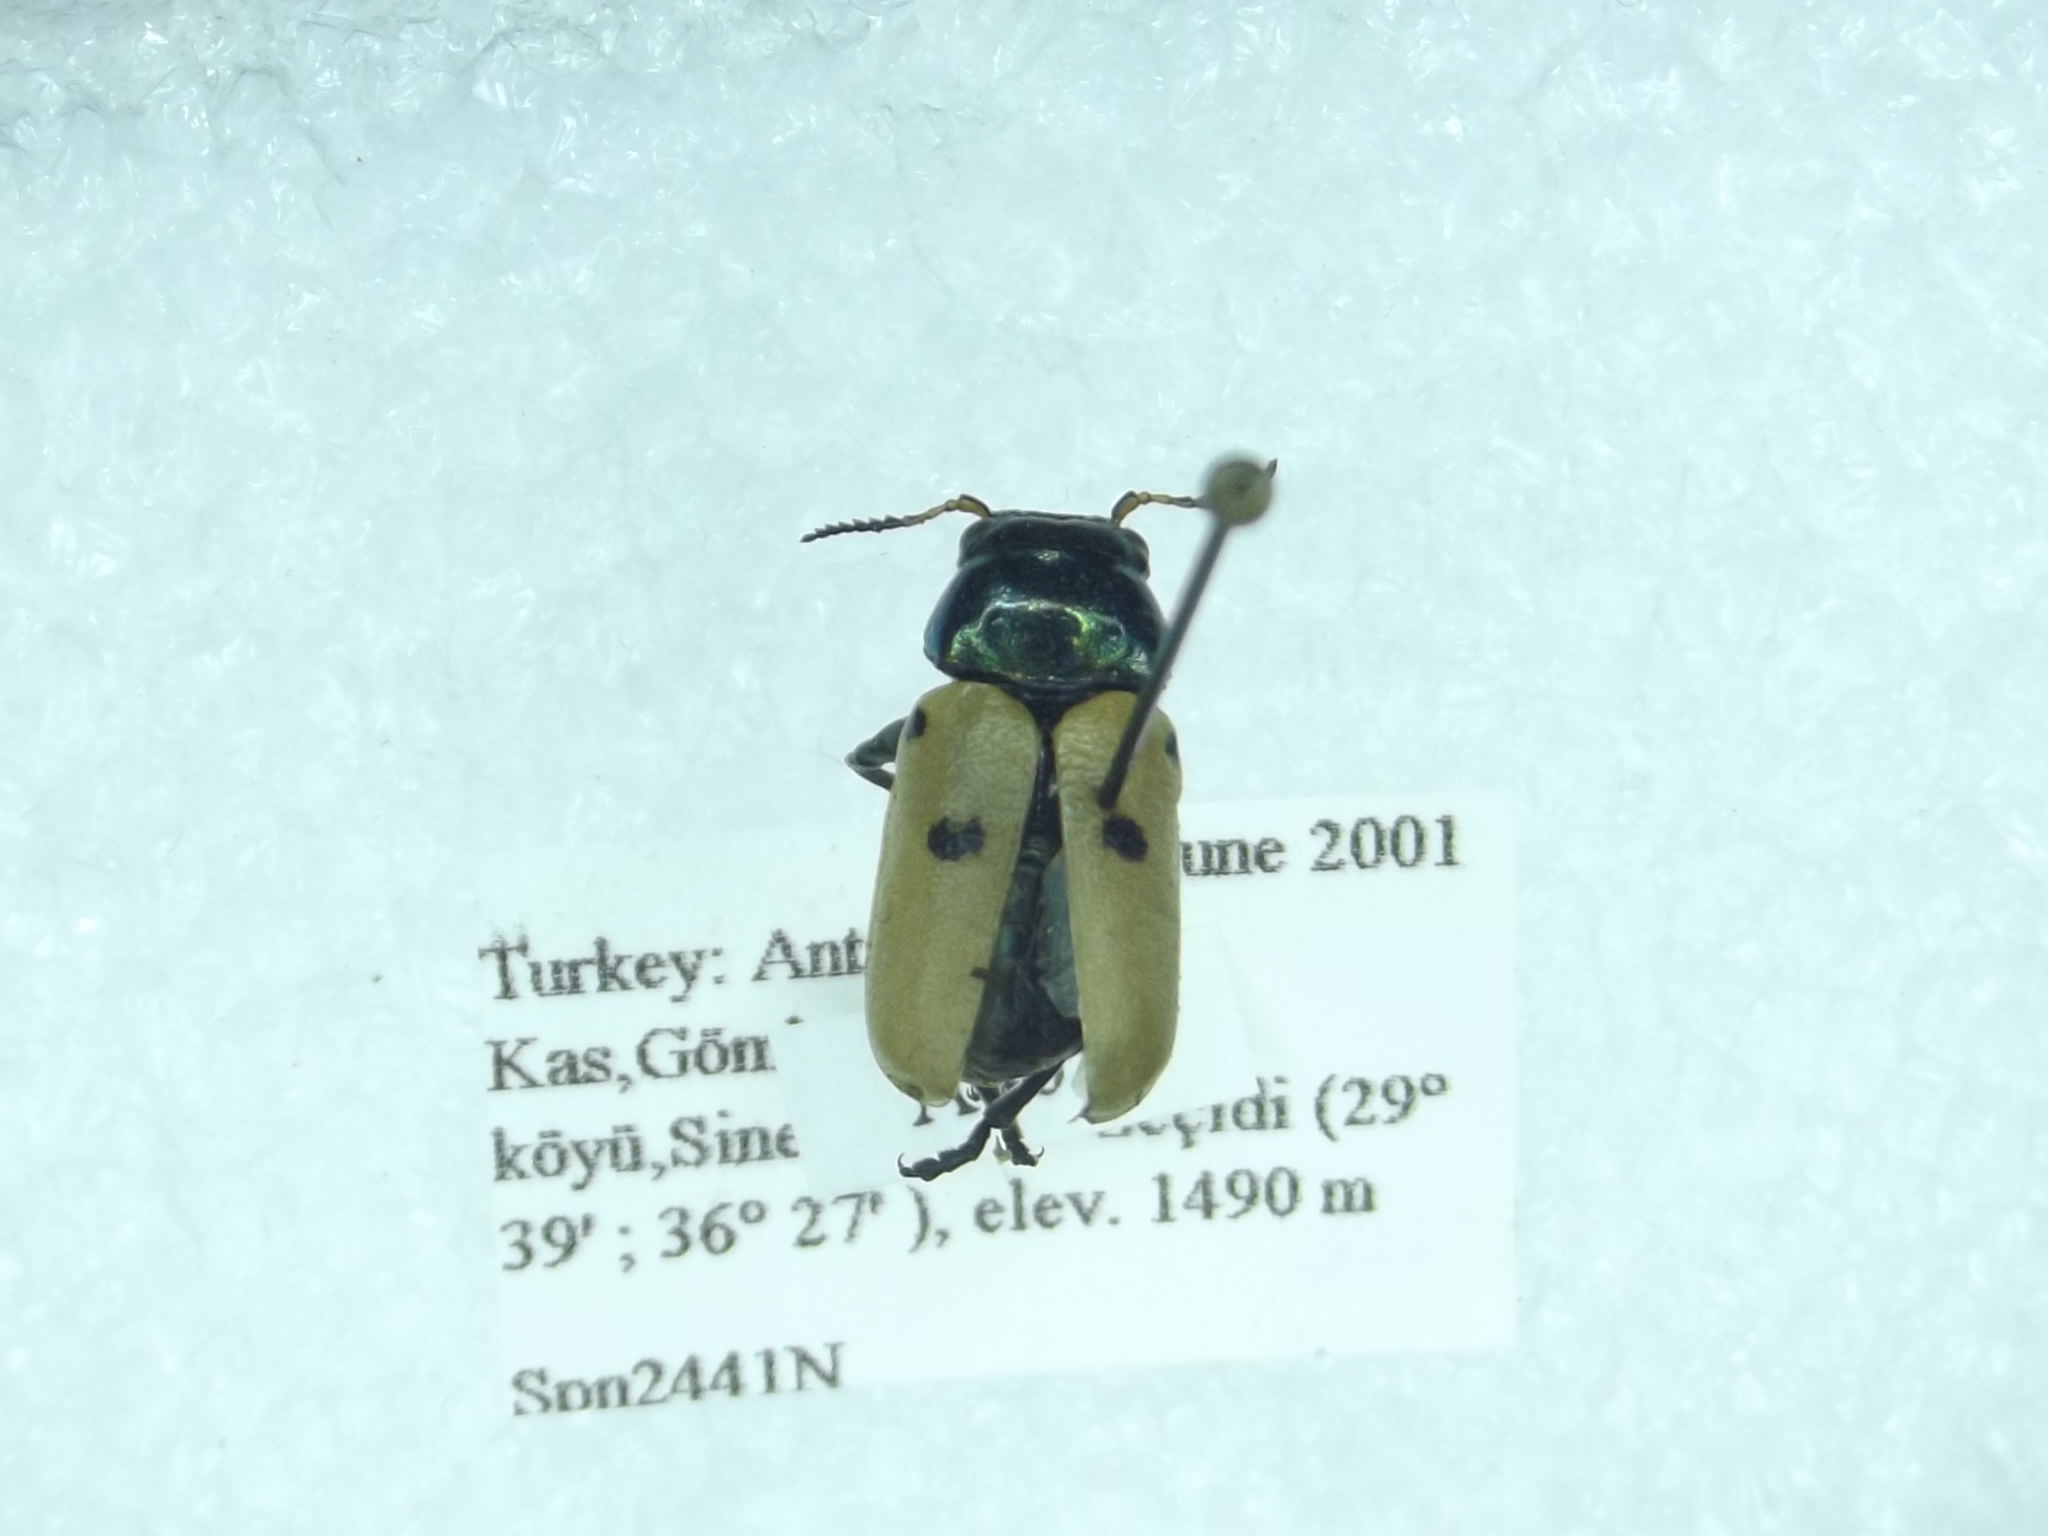Labidostomis_maculipennis: (784, 442, 1261, 1142)
